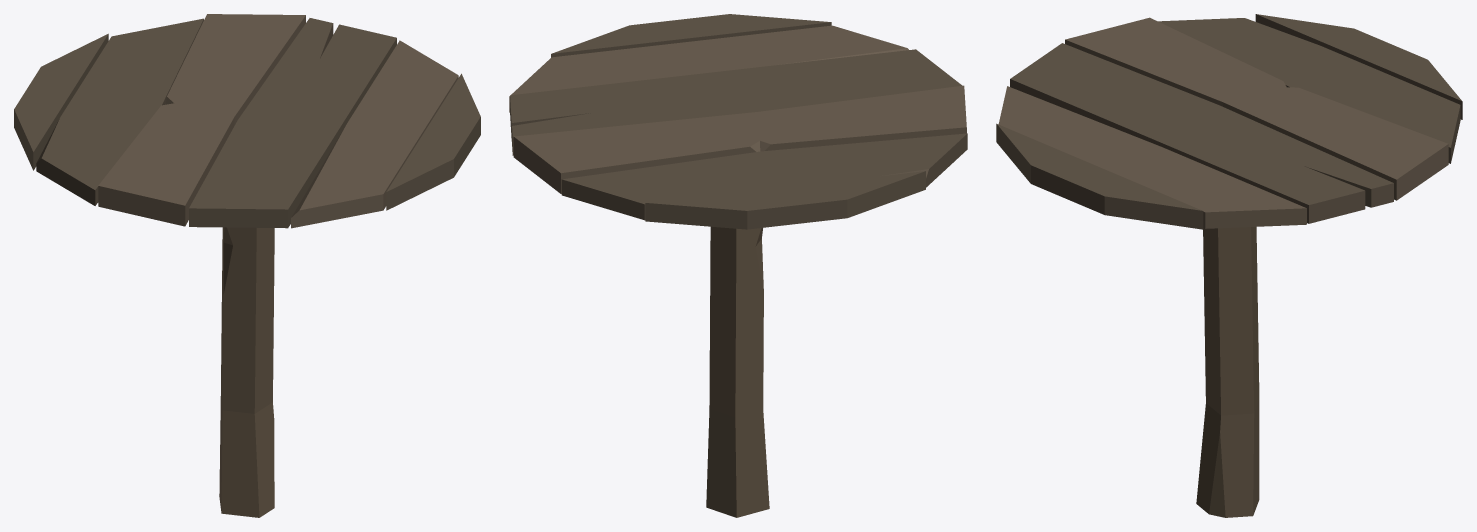
File: SM_Props_City_Beach_Table_01.fbx
3 renders of one model, left to right at view 1: azimuth 30°, elevation 25°; view 2: azimuth 150°, elevation 25°; view 3: azimuth 270°, elevation 25°, orthographic.
Visible parts, largest first — view 1: SM_Props_City_Beach_Table_01; view 2: SM_Props_City_Beach_Table_01; view 3: SM_Props_City_Beach_Table_01.
Boxes of the visible parts, left/top/right/bottom form: SM_Props_City_Beach_Table_01: left=14, top=14, right=480, bottom=517; SM_Props_City_Beach_Table_01: left=509, top=14, right=967, bottom=517; SM_Props_City_Beach_Table_01: left=996, top=14, right=1462, bottom=517.
Size of the model in its own units: 90.15 by 84.48 by 90.15.
